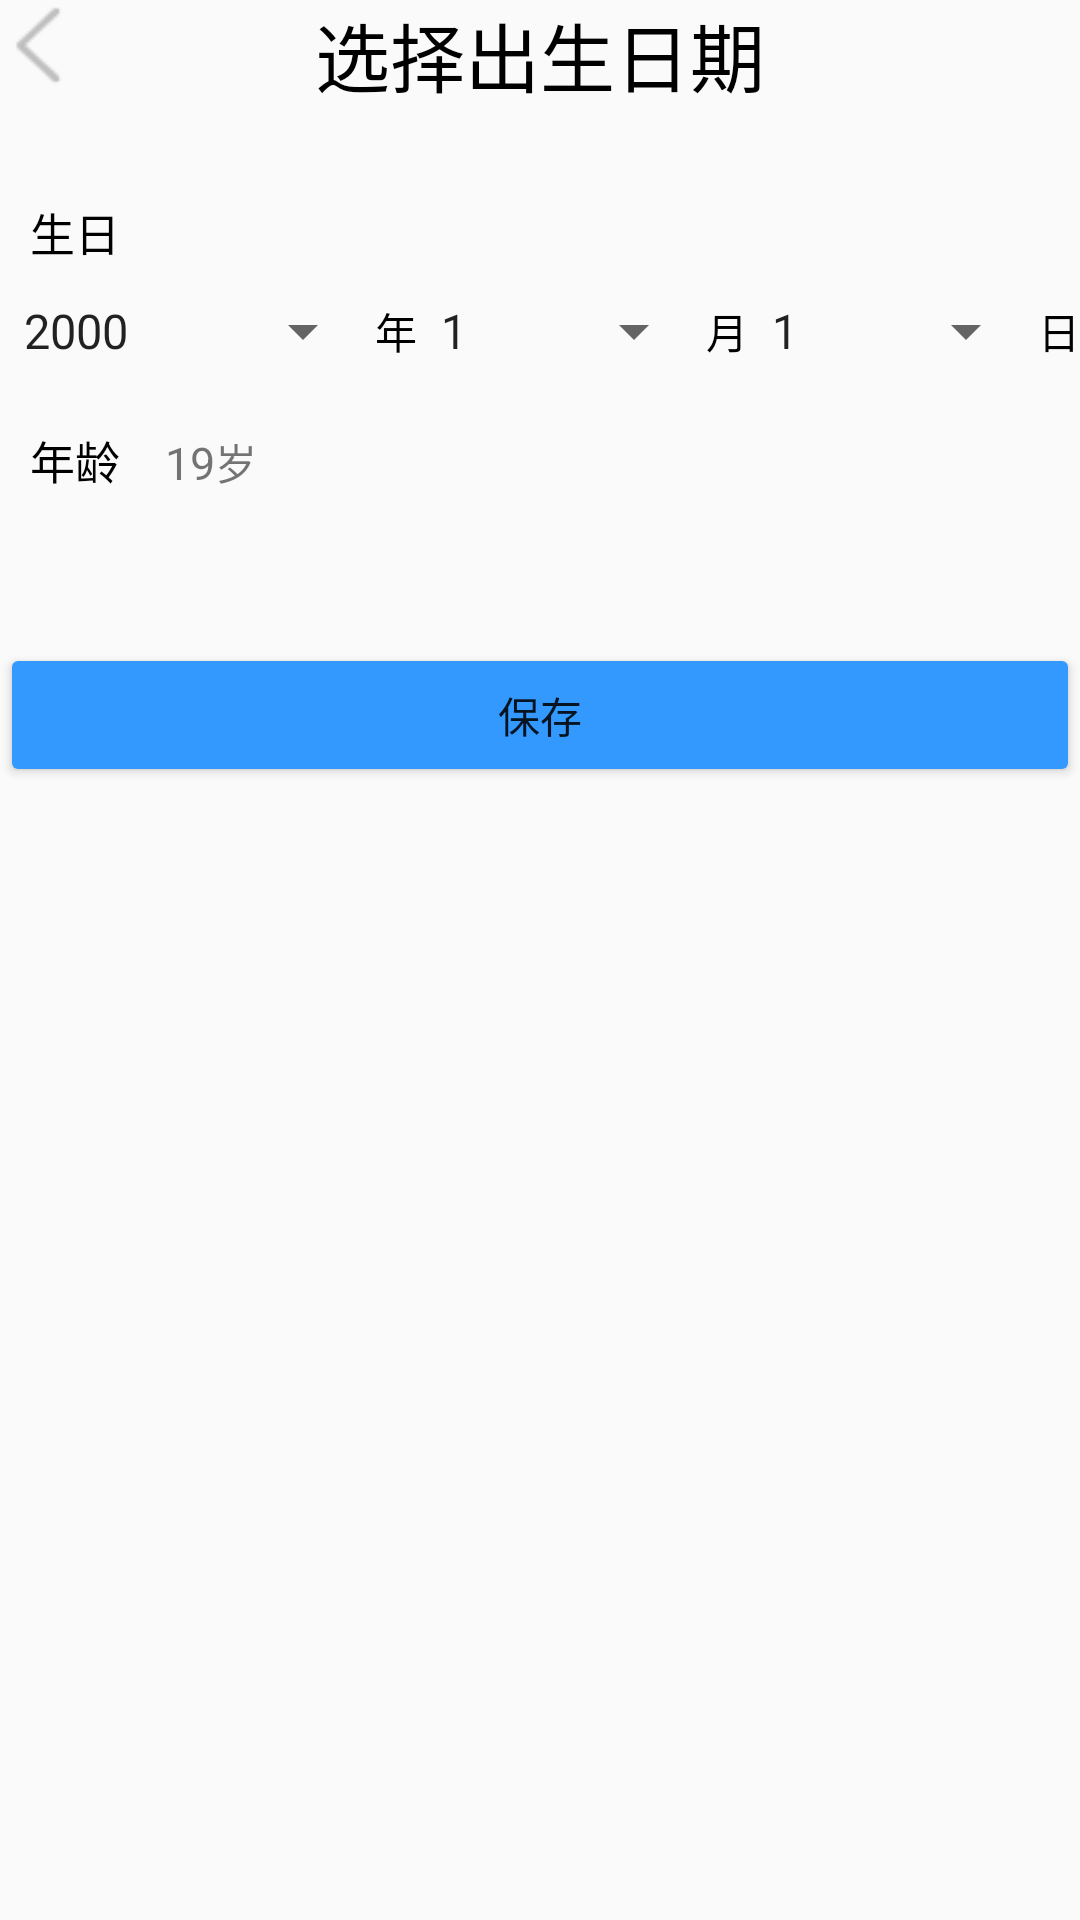

Locate icon controls on the screen. Image size 1080 × 1920, boxes as (x1, y1, x2, y2).
back: (17, 8, 59, 82)
